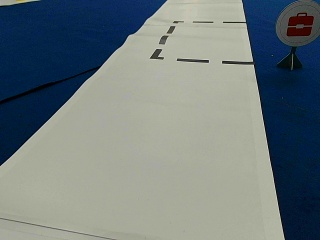company: (275, 1, 319, 45)
